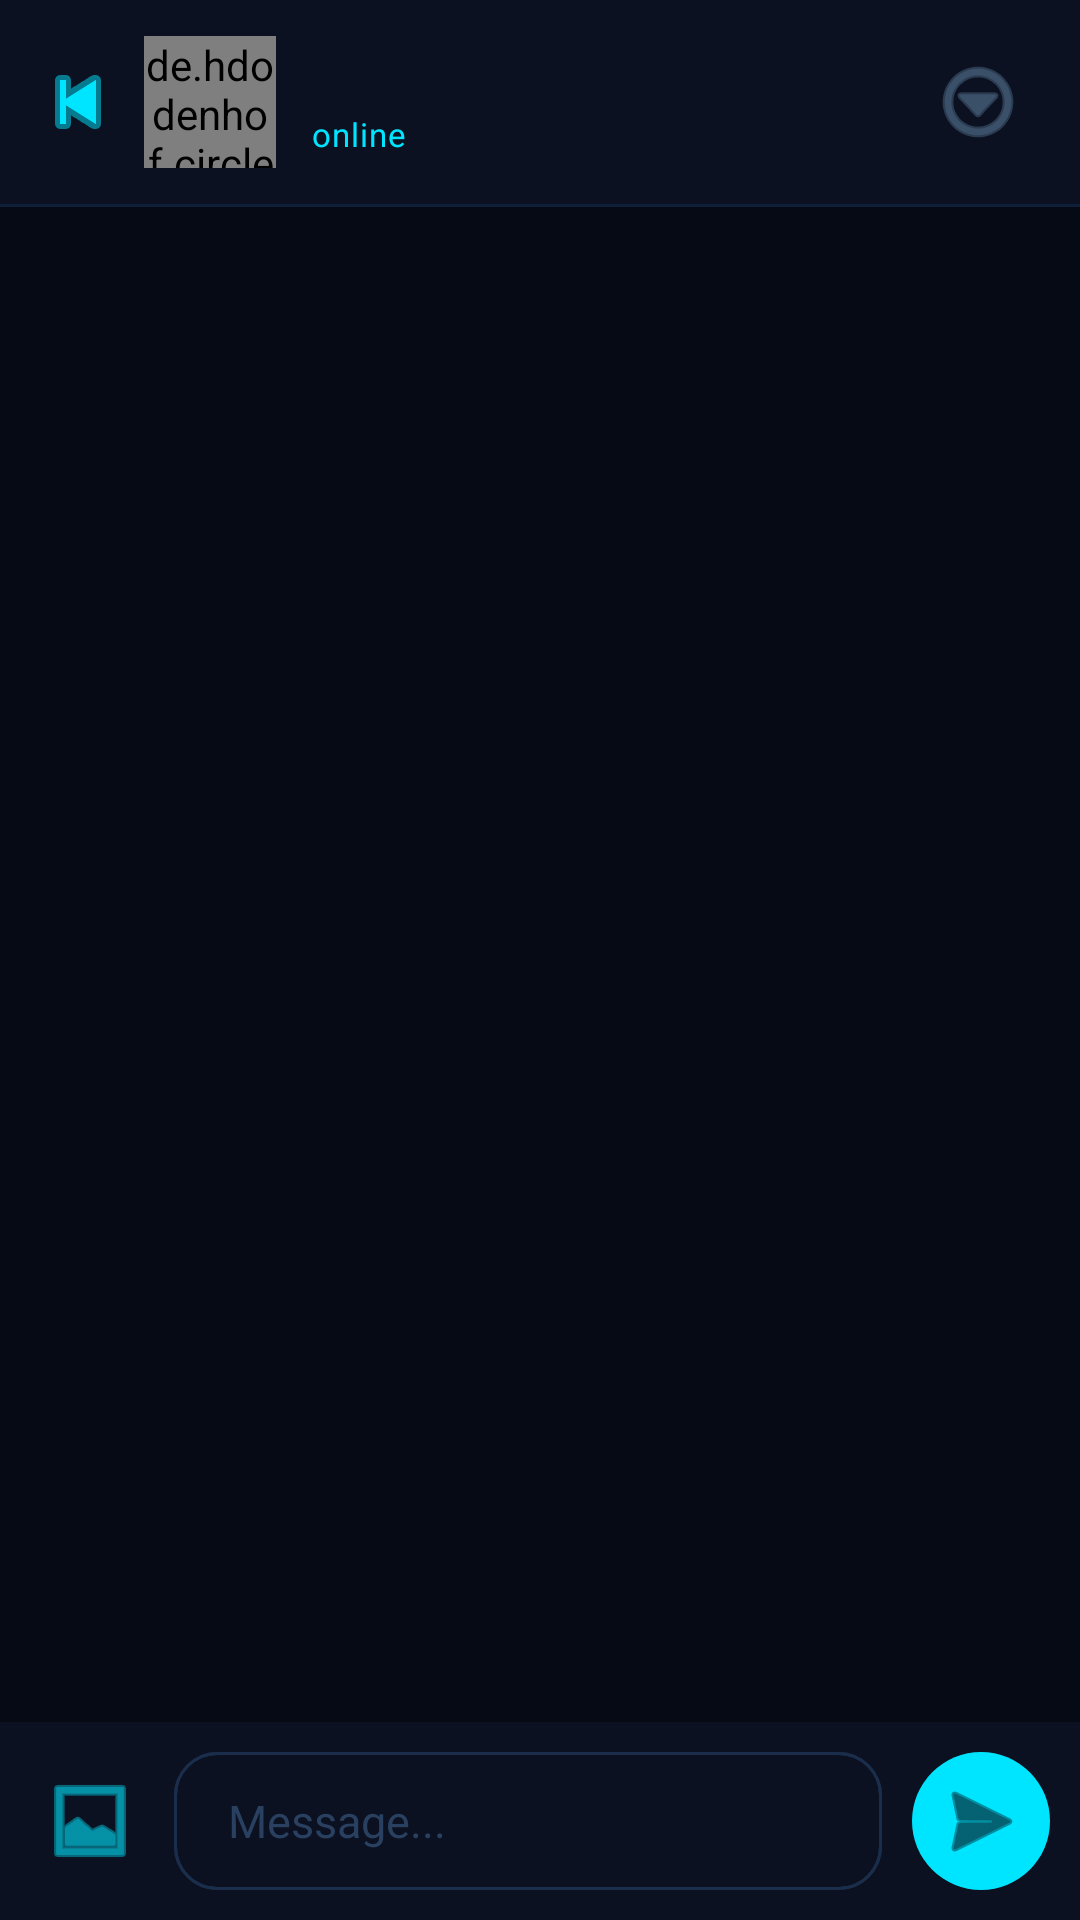

Where to tap for icons on this 1080w x 1920h app screen, as (x,y):
gallery: (90,1821)
more: (978,102)
previous: (78,102)
send: (981,1821)
